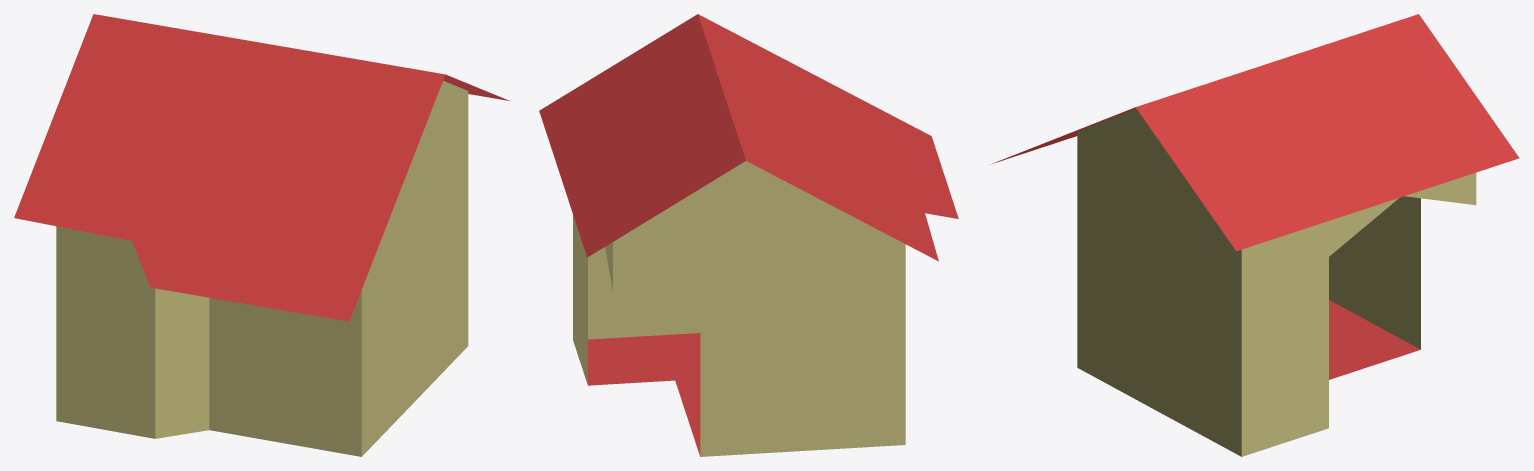
The picture shows the model from 3 angles, left to right: view 1: azimuth 30°, elevation 25°; view 2: azimuth 150°, elevation 25°; view 3: azimuth 270°, elevation 25°; orthographic projection. The views are drawn at different scales.
Size of the model in its own units: 16.46 by 17.28 by 11.22.
